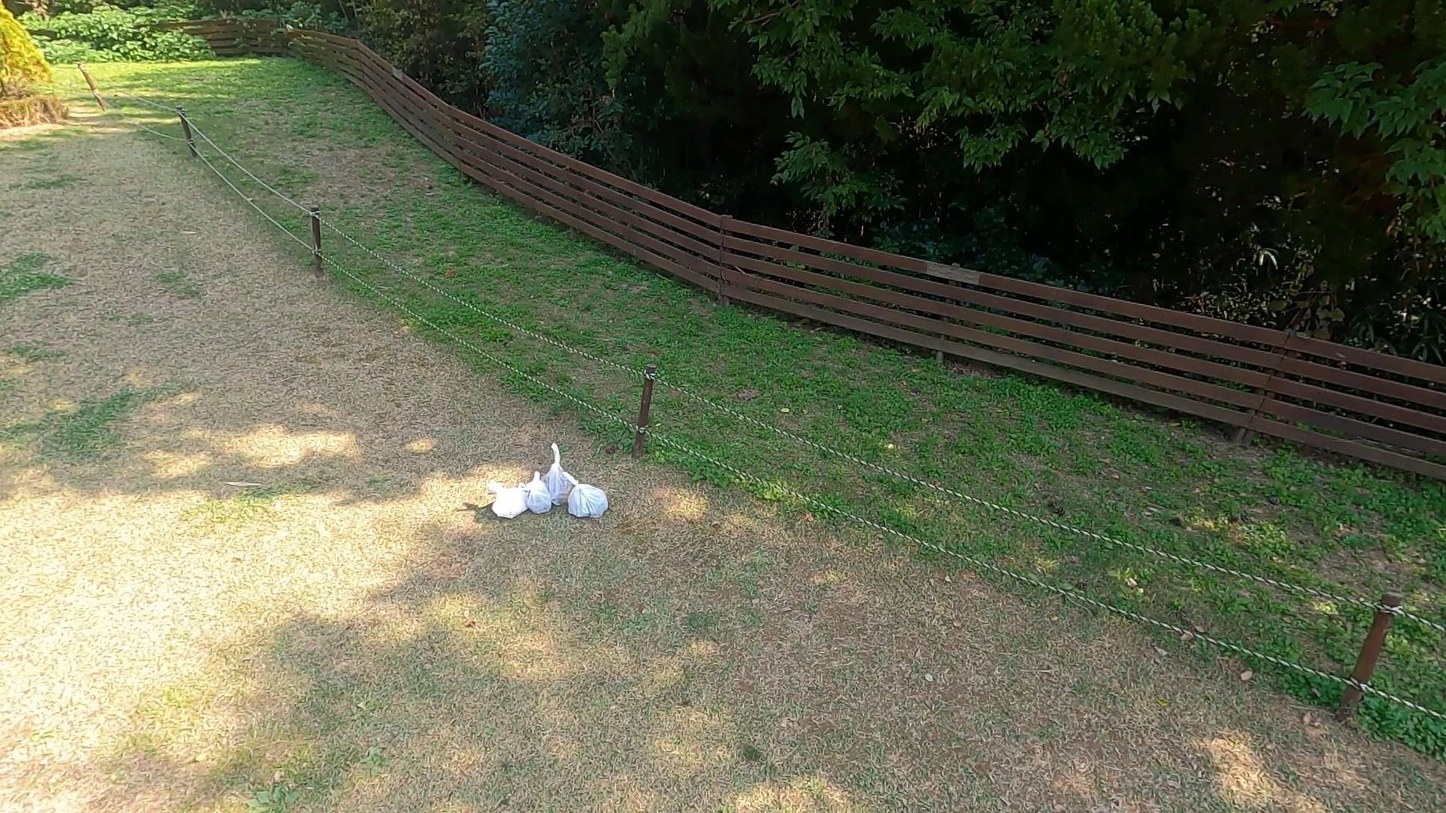trash: (530, 443, 579, 501), (562, 470, 611, 523), (520, 469, 554, 517), (489, 481, 528, 518)
